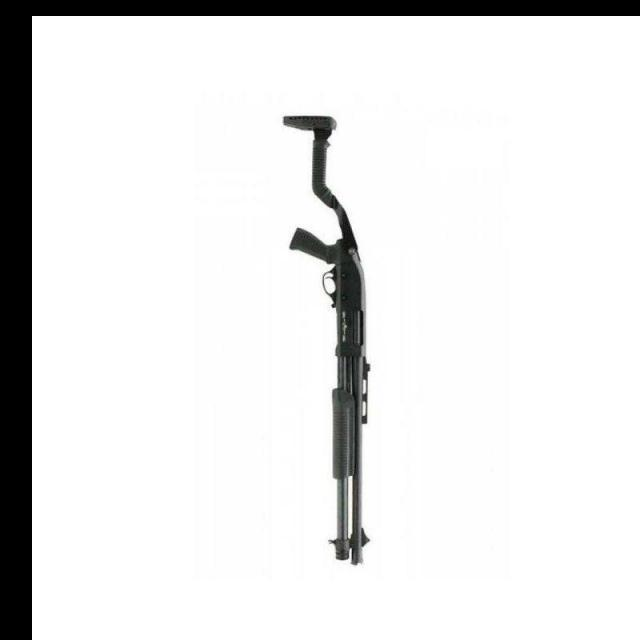weapon: (283, 113, 372, 566)
